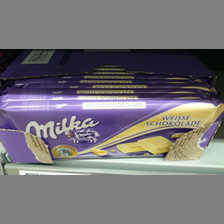chocolate: (3, 100, 224, 161)
